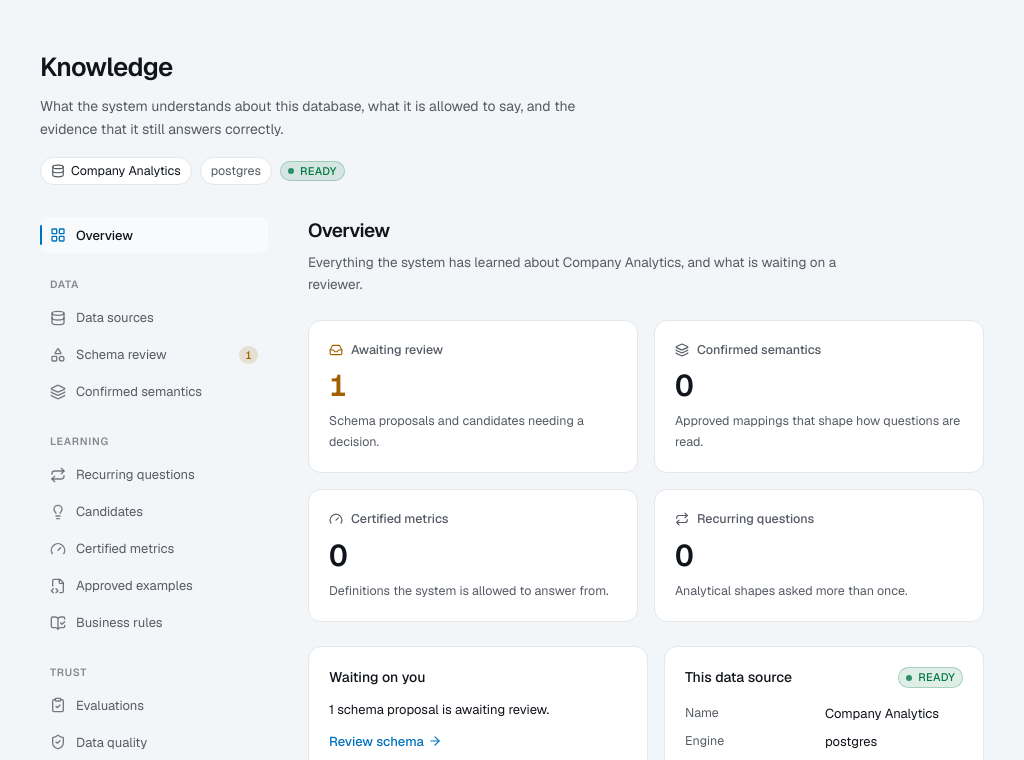
Schema review › leads with the concept and keeps the column path available
Click the tab "Schema review 1" at (154, 355), box [40,337,268,373]
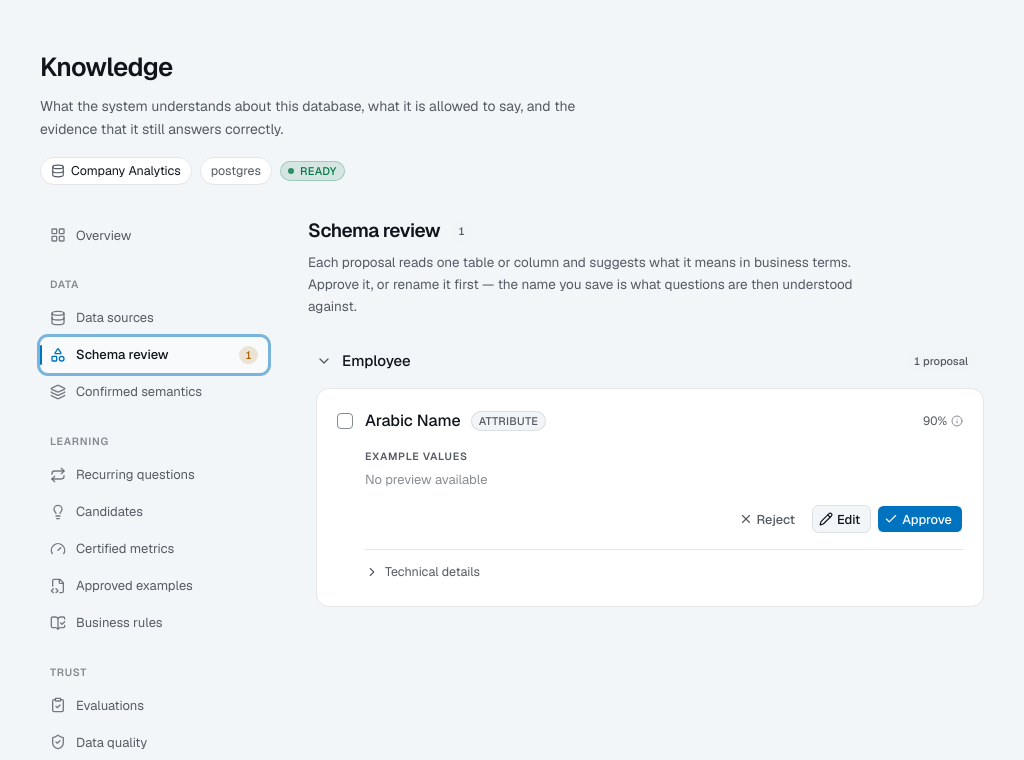
Check: the heading "Arabic Name" is shown, box [365,409,461,433]
Check: the text "ATTRIBUTE" is shown, box [471,411,546,431]
